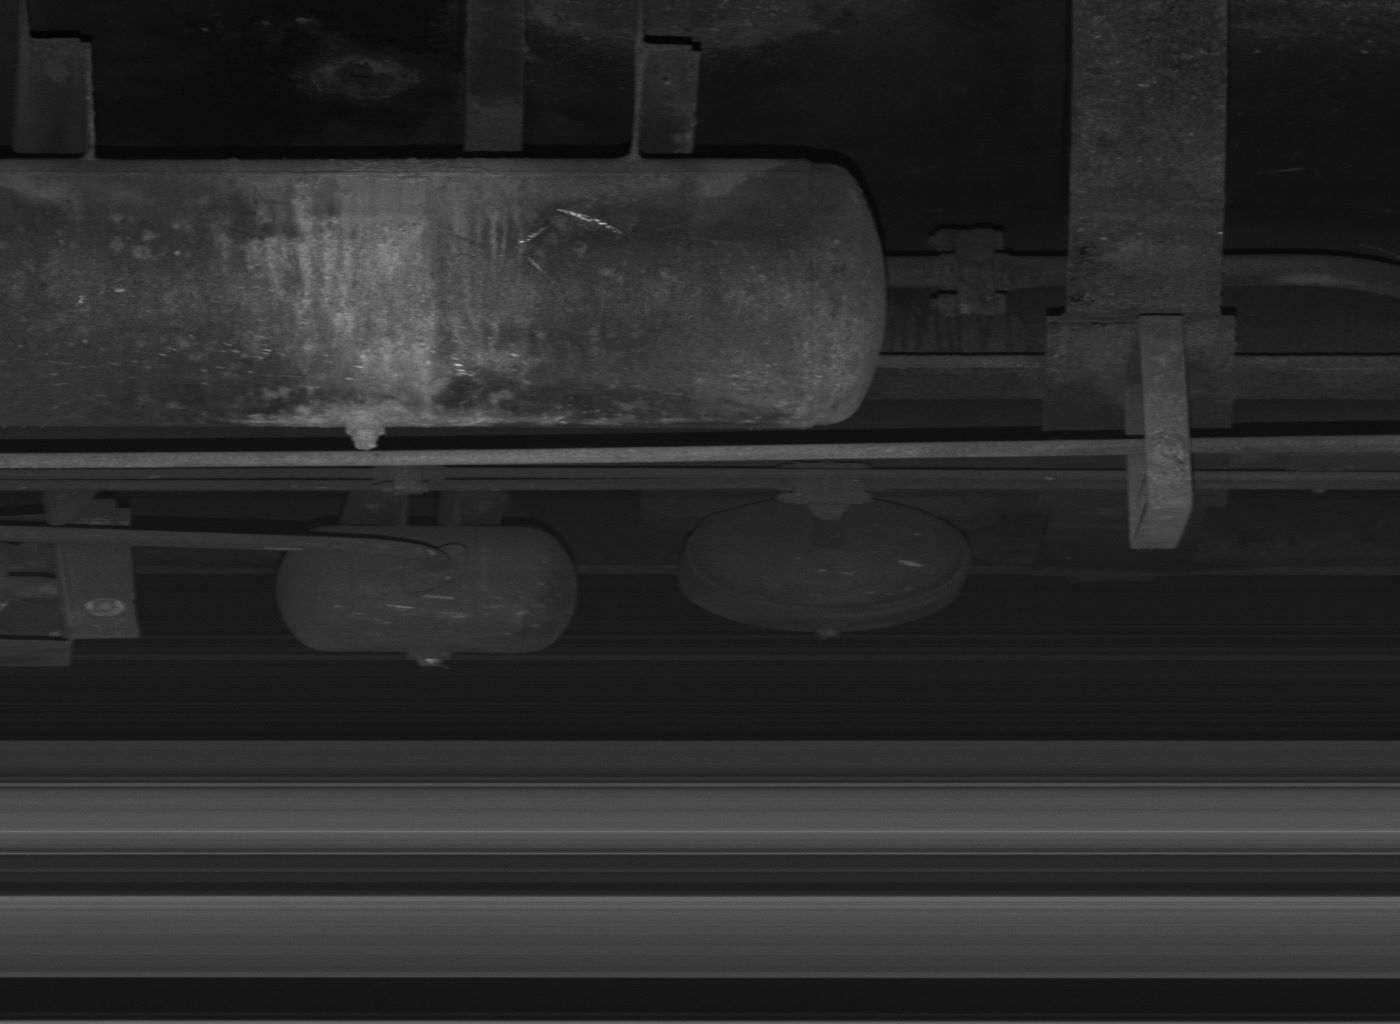normal: (1127, 316, 1191, 550)
